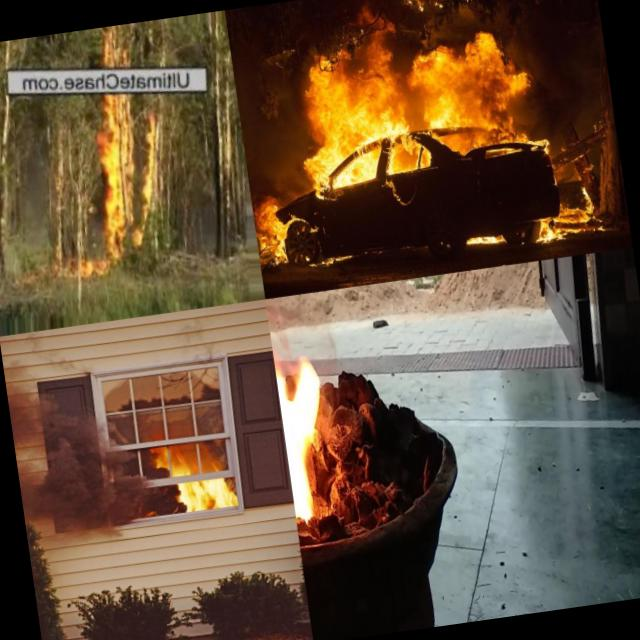fire: (283, 15, 552, 199), (42, 91, 184, 280), (265, 292, 351, 544), (156, 424, 237, 522), (528, 178, 612, 248), (250, 183, 306, 267)
smoke: (16, 452, 106, 552), (94, 442, 169, 540), (10, 398, 106, 462), (2, 348, 54, 411)
